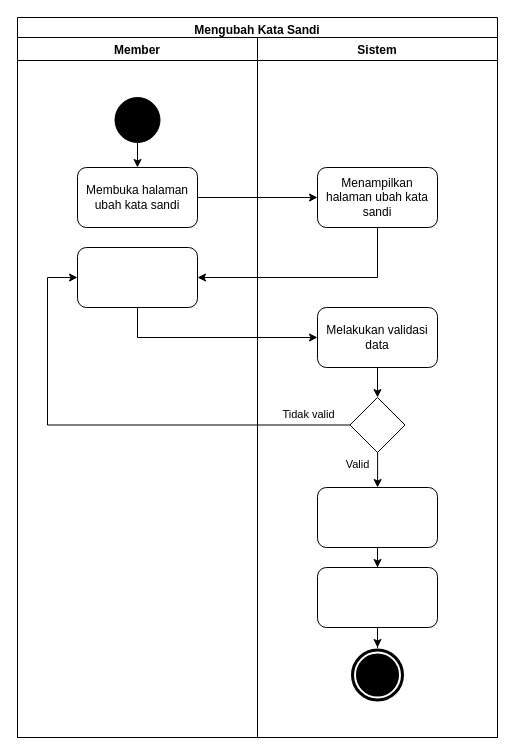
This 515x755 diagram has some shape labels left out. The centre of each missing label's shape, as x and y in pixels:
"Menampilkan halaman profil" goes at point (377, 597).
"Mengisi kata sandi dan konfirmasi kata sandi" goes at point (137, 277).
"Menyimpan data" goes at point (377, 517).
